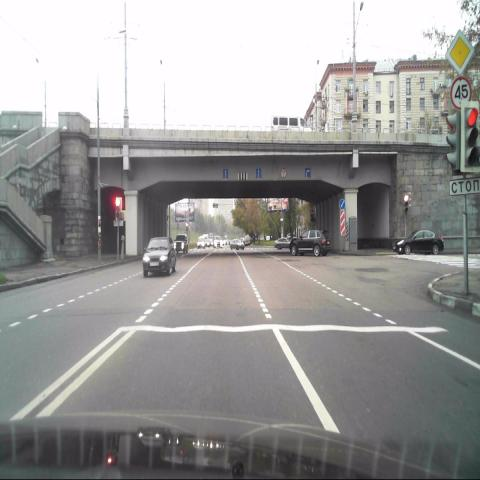3_13: (451, 75, 471, 108)
